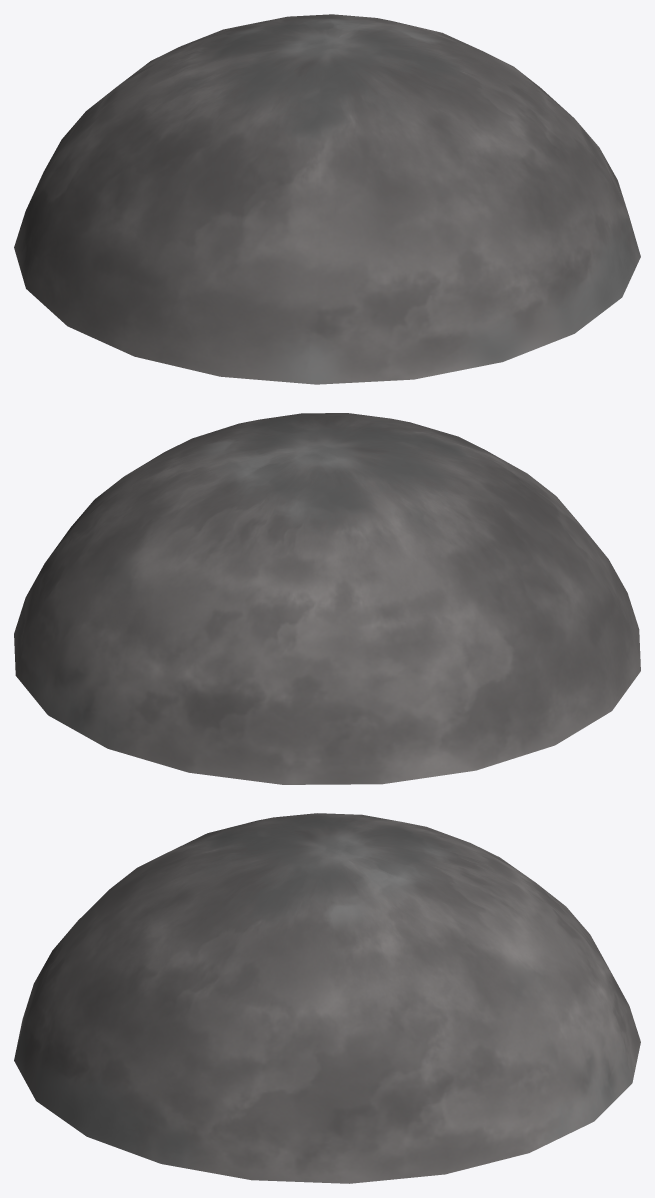
Rendered from Sky Cloudiness - 01.fbx.
3 renders of one model, top to bottom at view 1: azimuth 30°, elevation 25°; view 2: azimuth 150°, elevation 25°; view 3: azimuth 270°, elevation 25°, orthographic.
Parts seen in each view (by area): view 1: sky; view 2: sky; view 3: sky.
Boxes of the visible parts, bbox=[...] form: sky: bbox=[14, 14, 640, 384]; sky: bbox=[14, 413, 640, 784]; sky: bbox=[14, 813, 640, 1183].
Bounding box in the file's own units: 985 × 356 × 985.
